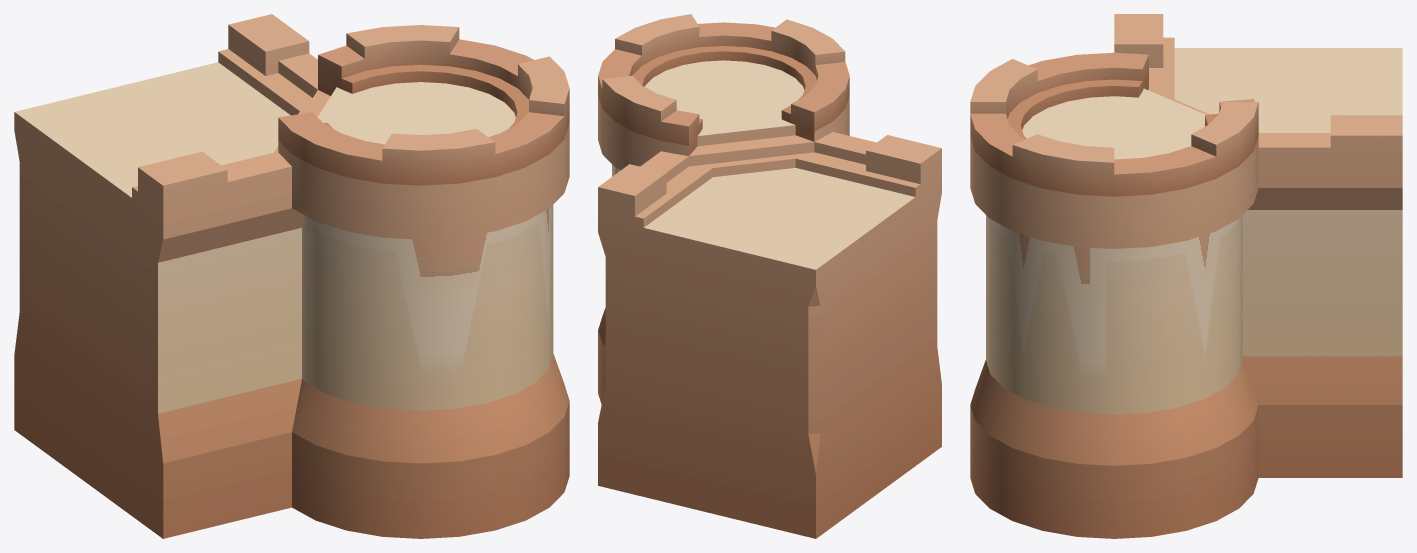
File: wall-corner-half-tower.glb
3 views of the same model, side by side, from view 1: azimuth 30°, elevation 25°; view 2: azimuth 150°, elevation 25°; view 3: azimuth 270°, elevation 25° (orthographic). The views are drawn at different scales.
Parts seen in each view (by area): view 1: wall-corner-half-tower; view 2: wall-corner-half-tower; view 3: wall-corner-half-tower.
Boxes of the visible parts, bbox=[...] form: wall-corner-half-tower: bbox=[14, 14, 569, 538]; wall-corner-half-tower: bbox=[598, 14, 941, 538]; wall-corner-half-tower: bbox=[970, 14, 1402, 538].
Bounding box in the file's own units: 1.5 × 1.44 × 1.5.
Materials: 1 (1 with a texture image).
